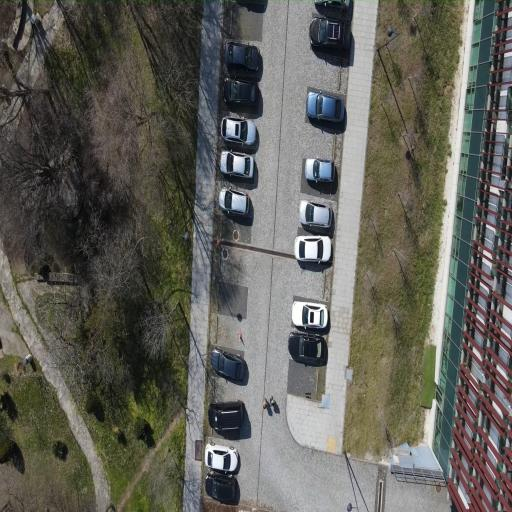car: (288, 333, 328, 367), (208, 402, 243, 439), (310, 17, 350, 47), (211, 347, 244, 382), (307, 91, 344, 121), (206, 470, 236, 503), (205, 442, 238, 471), (225, 42, 259, 70), (222, 116, 256, 144), (295, 235, 331, 261), (224, 77, 258, 104), (292, 301, 327, 327), (220, 150, 253, 177), (300, 200, 331, 226), (219, 188, 249, 214), (305, 158, 335, 182), (315, 0, 350, 9)
person: (263, 397, 267, 409), (270, 396, 275, 405)
